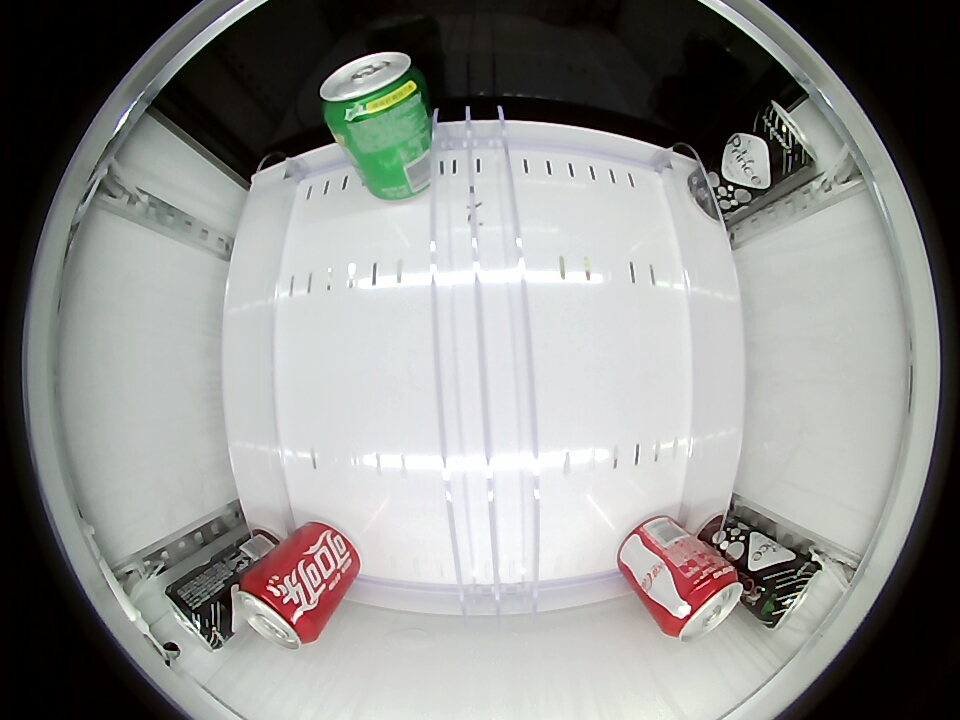kele: (660, 560, 742, 641), (236, 572, 321, 649)
qingdaowangzi-1: (750, 552, 822, 630), (164, 576, 232, 651), (759, 99, 816, 176)
xuebi2: (319, 51, 429, 132)
